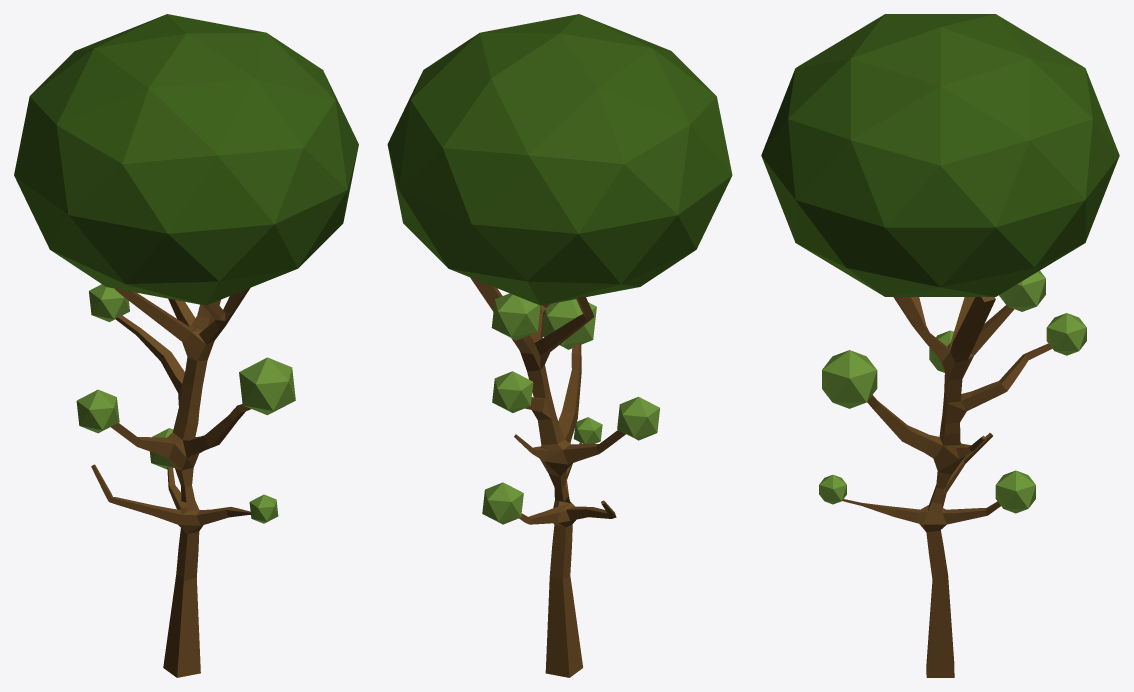
The model's file is drzewolisc.fbx.
3 views of the same model, side by side, from view 1: azimuth 30°, elevation 25°; view 2: azimuth 150°, elevation 25°; view 3: azimuth 270°, elevation 25° (orthographic).
Visible parts, largest first — view 1: Icosphere, Cube, Icosphere.001, Icosphere.011, Icosphere.002, Icosphere.003; view 2: Icosphere, Cube, Icosphere.009, Icosphere.001, Icosphere.011, Icosphere.010, Icosphere.002, Icosphere.003; view 3: Icosphere, Cube, Icosphere.001, Icosphere.010, Icosphere.002, Icosphere.009, Icosphere.003.
Part boxes in pixels (x1,y1,x2,y2): Icosphere: (14,14,358,305); Cube: (91,288,250,677); Icosphere.001: (239,357,295,415); Icosphere.011: (76,389,119,433); Icosphere.002: (89,284,129,321); Icosphere.003: (249,494,278,523); Icosphere: (387,14,732,305); Cube: (470,277,625,677); Icosphere.009: (491,293,540,340); Icosphere.001: (543,299,596,349); Icosphere.011: (617,396,659,440); Icosphere.010: (482,482,523,524); Icosphere.002: (492,371,533,412); Icosphere.003: (573,417,602,443); Icosphere: (761,14,1119,296); Cube: (842,296,1052,677); Icosphere.001: (822,350,877,408); Icosphere.010: (995,470,1035,513); Icosphere.002: (1046,313,1086,355); Icosphere.009: (999,270,1045,311); Icosphere.003: (819,474,846,504).
Bounding box in the file's own units: 2033 × 4258 × 2138.
